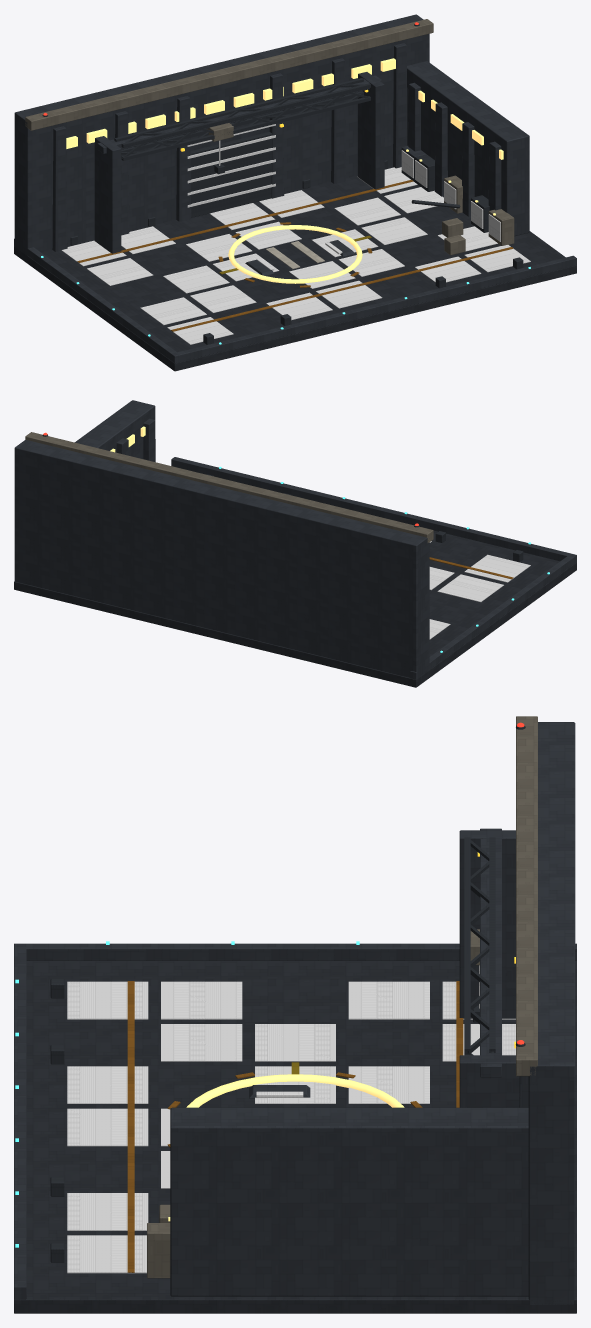
Rendered from place_dock_interior.glb.
3 renders of one model, top to bottom at view 1: azimuth 30°, elevation 25°; view 2: azimuth 150°, elevation 25°; view 3: azimuth 270°, elevation 25°, orthographic. The views are drawn at different scales.
Parts seen in each view (by area): view 1: LOD0_Armor, LOD0_Hull_deck, LOD0_MechanicalDark, LOD0_Mechanical, LOD0_Hull_aged, LOD0_Lights_Warm, LOD0_Livery, LOD0_Hull_line_white; view 2: LOD0_Armor, LOD0_Hull_deck, LOD0_Hull_aged, LOD0_MechanicalDark; view 3: LOD0_Armor, LOD0_Hull_deck, LOD0_MechanicalDark, LOD0_Hull_aged, LOD0_Mechanical, LOD0_Livery, LOD0_Lights_Warm.
Boxes of the visible parts, box(x1,y1,x2,y2) form: LOD0_Armor: box(14, 14, 576, 363); LOD0_Hull_deck: box(14, 167, 576, 371); LOD0_MechanicalDark: box(61, 124, 530, 344); LOD0_Mechanical: box(42, 24, 523, 344); LOD0_Hull_aged: box(25, 19, 514, 255); LOD0_Lights_Warm: box(66, 58, 503, 283); LOD0_Livery: box(77, 179, 513, 331); LOD0_Hull_line_white: box(266, 241, 324, 268); LOD0_Armor: box(14, 400, 576, 681); LOD0_Hull_deck: box(14, 530, 576, 687); LOD0_Hull_aged: box(25, 432, 433, 542); LOD0_MechanicalDark: box(429, 541, 530, 639); LOD0_Armor: box(14, 722, 576, 1304); LOD0_Hull_deck: box(14, 961, 576, 1313); LOD0_MechanicalDark: box(67, 965, 515, 1273); LOD0_Hull_aged: box(147, 716, 537, 1278); LOD0_Mechanical: box(50, 725, 525, 1262); LOD0_Livery: box(127, 981, 463, 1272); LOD0_Lights_Warm: box(168, 1074, 404, 1221).
Bounding box in the file's own units: 52 × 18.4 × 36.
12 materials, 8 textured.
